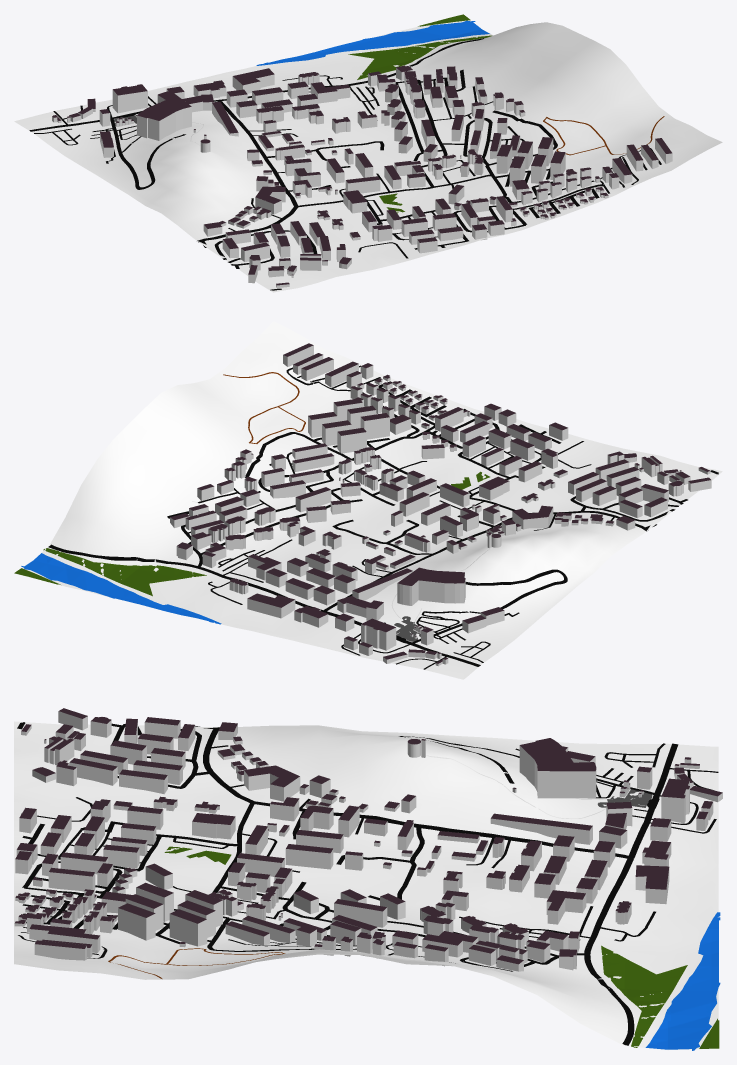
Rendered from tile_6_0.glb.
The picture shows the model from 3 angles, top to bottom: view 1: azimuth 30°, elevation 25°; view 2: azimuth 150°, elevation 25°; view 3: azimuth 270°, elevation 25°; orthographic projection. The views are drawn at different scales.
Parts seen in each view (by area): view 1: terrain_6_0, ulaanbaatar.osm_buildings_6_0, ulaanbaatar.osm_roads_residential_mesh_6_0, ulaanbaatar.osm_water_mesh_6_0, ulaanbaatar.osm_roads_service_mesh_6_0, ulaanbaatar.osm_forest_mesh_6_0, ulaanbaatar.osm_roads_primary_mesh_6_0; view 2: terrain_6_0, ulaanbaatar.osm_buildings_6_0, ulaanbaatar.osm_roads_residential_mesh_6_0, ulaanbaatar.osm_roads_service_mesh_6_0, ulaanbaatar.osm_forest_mesh_6_0, ulaanbaatar.osm_water_mesh_6_0, ulaanbaatar.osm_roads_primary_mesh_6_0; view 3: terrain_6_0, ulaanbaatar.osm_buildings_6_0, ulaanbaatar.osm_roads_residential_mesh_6_0, ulaanbaatar.osm_water_mesh_6_0, ulaanbaatar.osm_forest_mesh_6_0, ulaanbaatar.osm_roads_primary_mesh_6_0, ulaanbaatar.osm_roads_service_mesh_6_0.
Part boxes in pixels (bbox=[...]): terrain_6_0: bbox=[14, 20, 722, 292]; ulaanbaatar.osm_buildings_6_0: bbox=[52, 65, 672, 287]; ulaanbaatar.osm_roads_residential_mesh_6_0: bbox=[110, 69, 604, 290]; ulaanbaatar.osm_water_mesh_6_0: bbox=[256, 20, 489, 65]; ulaanbaatar.osm_roads_service_mesh_6_0: bbox=[34, 75, 661, 258]; ulaanbaatar.osm_forest_mesh_6_0: bbox=[348, 14, 491, 213]; ulaanbaatar.osm_roads_primary_mesh_6_0: bbox=[29, 38, 484, 242]; terrain_6_0: bbox=[22, 321, 722, 679]; ulaanbaatar.osm_buildings_6_0: bbox=[170, 343, 711, 666]; ulaanbaatar.osm_roads_residential_mesh_6_0: bbox=[167, 381, 718, 644]; ulaanbaatar.osm_roads_service_mesh_6_0: bbox=[186, 365, 615, 669]; ulaanbaatar.osm_forest_mesh_6_0: bbox=[14, 471, 489, 596]; ulaanbaatar.osm_water_mesh_6_0: bbox=[21, 553, 221, 624]; ulaanbaatar.osm_roads_primary_mesh_6_0: bbox=[48, 511, 648, 666]; terrain_6_0: bbox=[14, 721, 718, 1050]; ulaanbaatar.osm_buildings_6_0: bbox=[14, 708, 722, 971]; ulaanbaatar.osm_roads_residential_mesh_6_0: bbox=[17, 722, 657, 971]; ulaanbaatar.osm_water_mesh_6_0: bbox=[645, 912, 720, 1050]; ulaanbaatar.osm_forest_mesh_6_0: bbox=[164, 846, 719, 1048]; ulaanbaatar.osm_roads_primary_mesh_6_0: bbox=[203, 727, 678, 1045]; ulaanbaatar.osm_roads_service_mesh_6_0: bbox=[18, 743, 718, 965].
Size of the model in its own units: 1021 by 158 by 1006.
